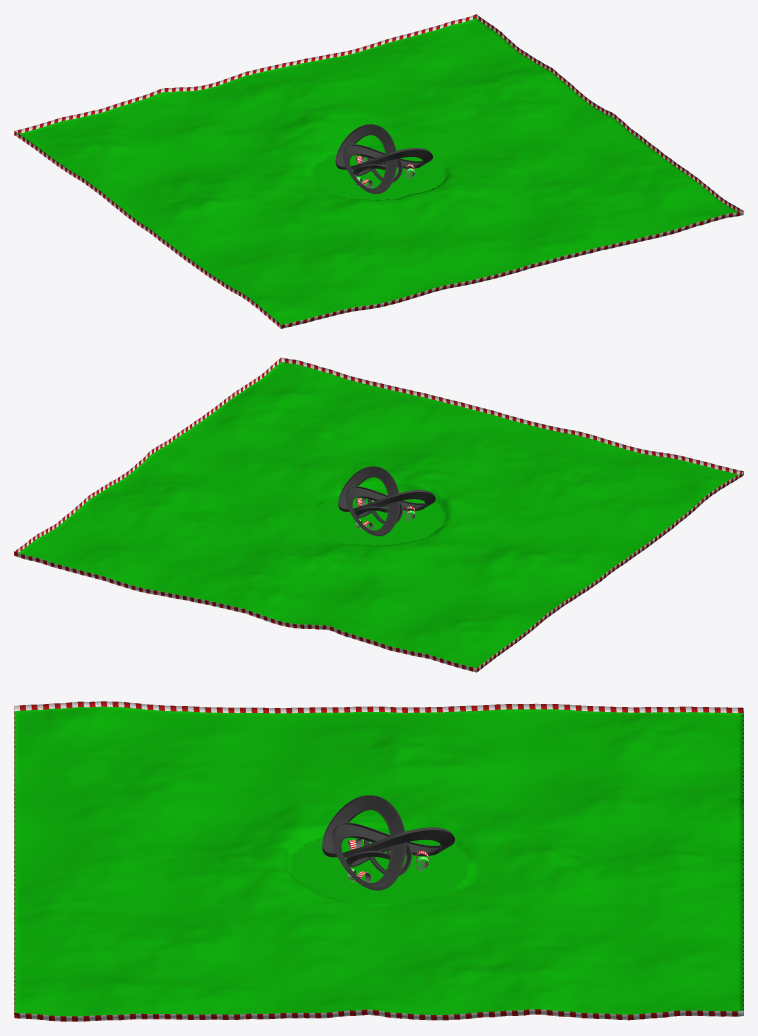
The model's file is TESTES PISTA.glb.
3 renders of one model, top to bottom at view 1: azimuth 30°, elevation 25°; view 2: azimuth 150°, elevation 25°; view 3: azimuth 270°, elevation 25°, orthographic. The views are drawn at different scales.
Parts seen in each view (by area): view 1: Landscape.001, Pista.001 Subdividida X 3 Model A.002; view 2: Landscape.001, Pista.001 Subdividida X 3 Model A.002; view 3: Landscape.001, Pista.001 Subdividida X 3 Model A.002, Pista.001 Subdividida X 3 Model A.001.
Part boxes in pixels (x1,y1,x2,y2): Landscape.001: (14,14,743,328); Pista.001 Subdividida X 3 Model A.002: (335,124,432,193); Landscape.001: (14,357,743,672); Pista.001 Subdividida X 3 Model A.002: (338,466,435,536); Landscape.001: (14,701,743,1021); Pista.001 Subdividida X 3 Model A.002: (322,795,454,890); Pista.001 Subdividida X 3 Model A.001: (345,840,412,875).
Size of the model in its own units: 5933 by 472 by 5934.
